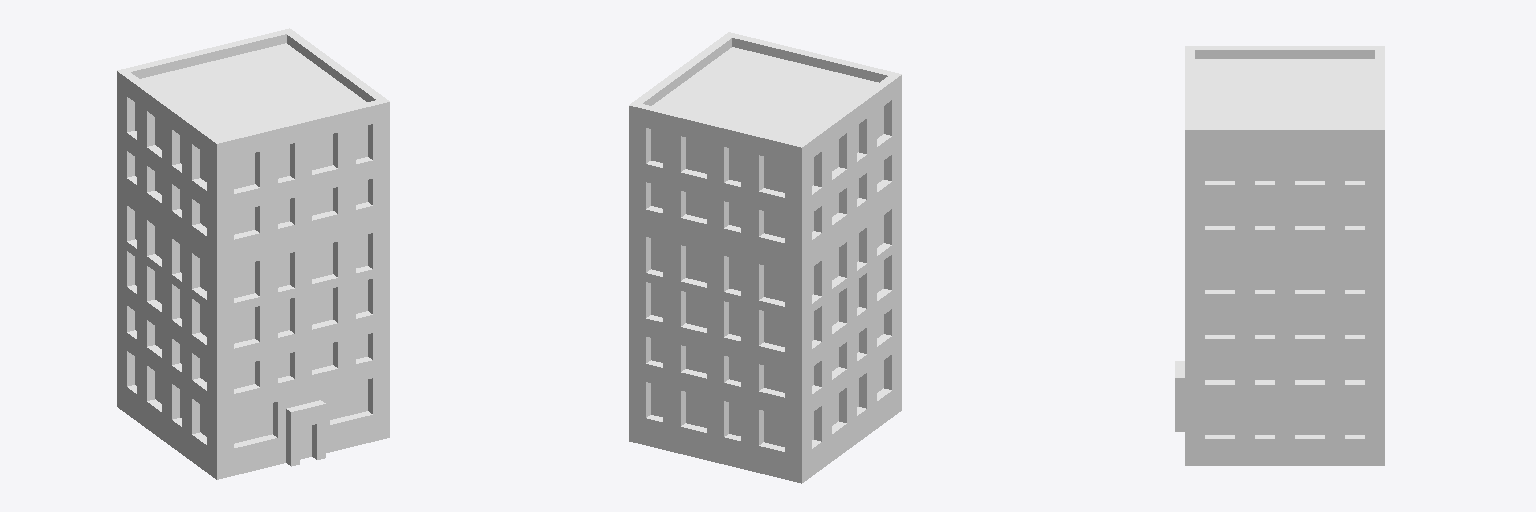
Rendered from building1.obj.
3 renders of one model, left to right at view 1: azimuth 30°, elevation 25°; view 2: azimuth 150°, elevation 25°; view 3: azimuth 270°, elevation 25°, orthographic.
Parts seen in each view (by area): view 1: object 1; view 2: object 1; view 3: object 1.
Part boxes in pixels (x1,y1,x2,y2): object 1: (117, 28, 389, 479); object 1: (629, 32, 901, 483); object 1: (1175, 46, 1384, 465).
Bounding box in the file's own units: 2 × 3.7 × 2.1.